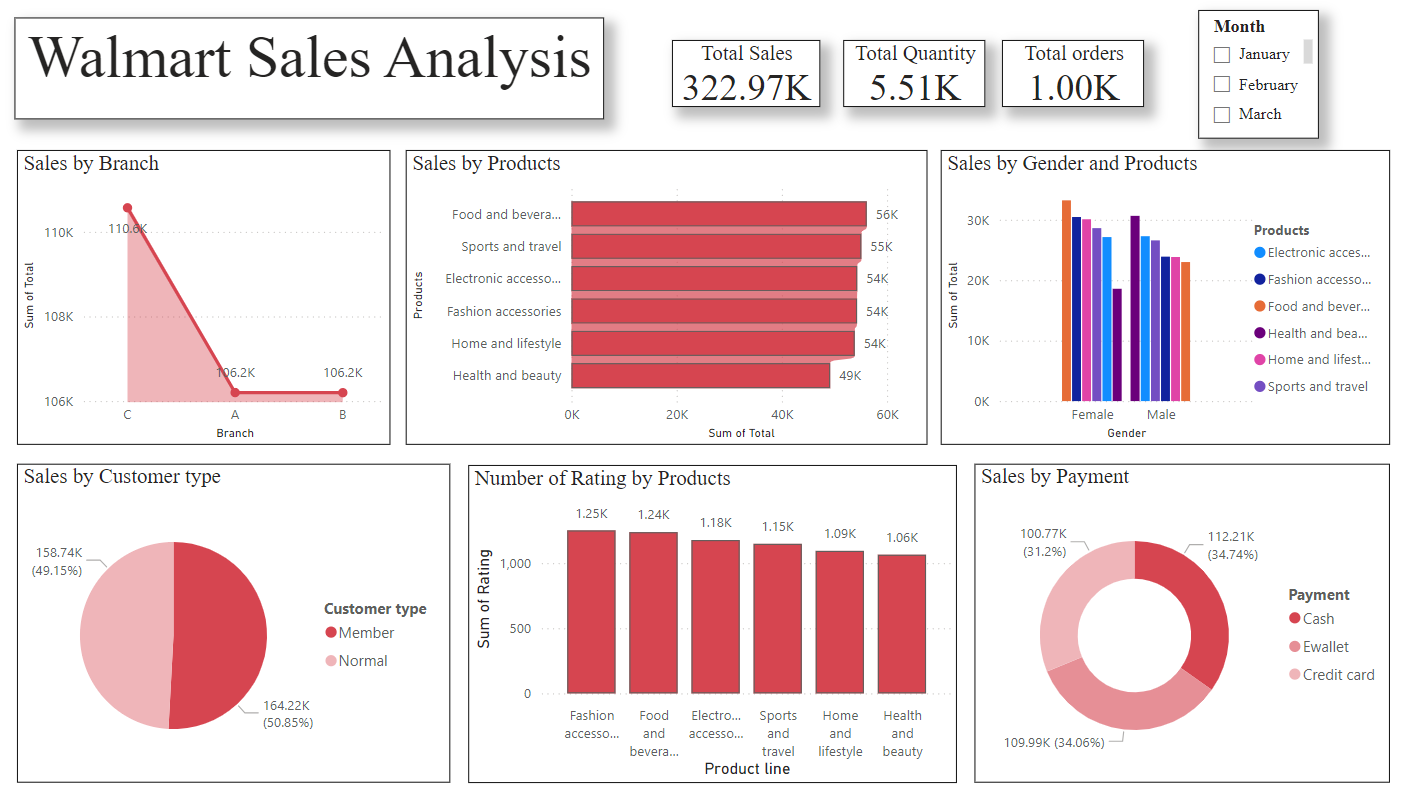

The page's visual inventory and layout, read from the dashboard file:
{"tool":"powerbi","page":{"name":"Sales Report","canvas":[1280,720],"ordinal":0},"visuals":[{"type":"lineChart","title":"Sales by Month","fields":{"Category":["WalmartSalesData.Date.Variation.Date Hierarchy.Month"],"Y":["Sum(WalmartSalesData.Total)"]},"box":[27.4,134.2,334.7,264],"z":0},{"type":"barChart","title":"Sales by Products","fields":{"Y":["Sum(WalmartSalesData.Total)"],"Category":["WalmartSalesData.Product line"]},"box":[375.1,134.7,467.5,263.8],"z":1000},{"type":"pieChart","title":"Sales by Customer type","fields":{"Category":["WalmartSalesData.Customer type"],"Y":["Sum(WalmartSalesData.Total)"]},"box":[27.4,415.5,388.1,285.7],"z":2000},{"type":"slicer","fields":{"Values":["WalmartSalesData.Branch"]},"box":[1085,8.7,108.2,115.4],"z":3000},{"type":"lineStackedColumnComboChart","title":"Number of Rating by Products","fields":{"Category":["WalmartSalesData.Product line"],"Y":["Sum(WalmartSalesData.Rating)"]},"box":[430.7,416.2,437.9,284.7],"z":4000},{"type":"donutChart","title":"Sales by Payment","fields":{"Y":["Sum(WalmartSalesData.Total)"],"Category":["WalmartSalesData.Payment"]},"box":[884.4,415.5,372.2,285.7],"z":5000},{"type":"card","title":"Total Sales","fields":{"Values":["Sum(WalmartSalesData.Total)"]},"box":[586.3,51.9,133,60],"z":6000},{"type":"card","title":"Total Quantity","fields":{"Values":["Sum(WalmartSalesData.Quantity)"]},"box":[728.7,51.9,127.9,60.3],"z":7000},{"type":"card","title":"Total orders","fields":{"Values":["Count(WalmartSalesData.Invoice ID)"]},"box":[866.2,51.9,127.9,60.3],"z":8000},{"type":"textbox","box":[24.5,15.9,528,90.9],"z":9000},{"type":"clusteredColumnChart","title":"Sales by Gender and Products","fields":{"Category":["WalmartSalesData.Gender"],"Y":["Sum(WalmartSalesData.Total)"],"Series":["WalmartSalesData.Product line"]},"box":[854.1,134.2,402.5,264],"z":10000}]}

Visuals, with their boxes in screenshot pixels (x1, y1, x2, y2), scaled from the page's 1280x720 canvas onto the 1404x794 screenshot:
"Sales by Month" lineChart: left=30, top=148, right=397, bottom=439
"Sales by Products" barChart: left=411, top=149, right=924, bottom=439
"Sales by Customer type" pieChart: left=30, top=458, right=456, bottom=773
slicer - WalmartSalesData.Branch: left=1190, top=10, right=1309, bottom=137
"Number of Rating by Products" lineStackedColumnComboChart: left=472, top=459, right=953, bottom=773
"Sales by Payment" donutChart: left=970, top=458, right=1378, bottom=773
"Total Sales" card: left=643, top=57, right=789, bottom=123
"Total Quantity" card: left=799, top=57, right=940, bottom=124
"Total orders" card: left=950, top=57, right=1090, bottom=124
textbox: left=27, top=18, right=606, bottom=118
"Sales by Gender and Products" clusteredColumnChart: left=937, top=148, right=1378, bottom=439
